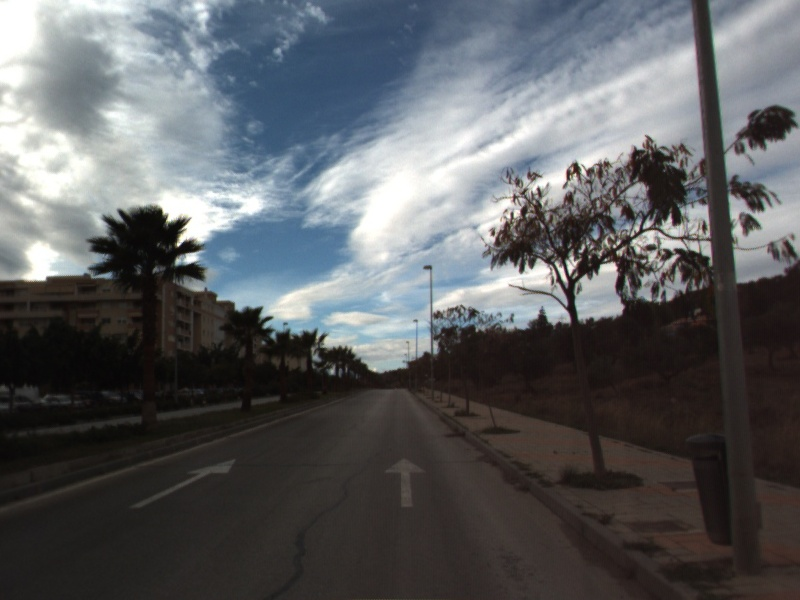STRAIGHT: (128, 457, 238, 510), (383, 455, 428, 509)
